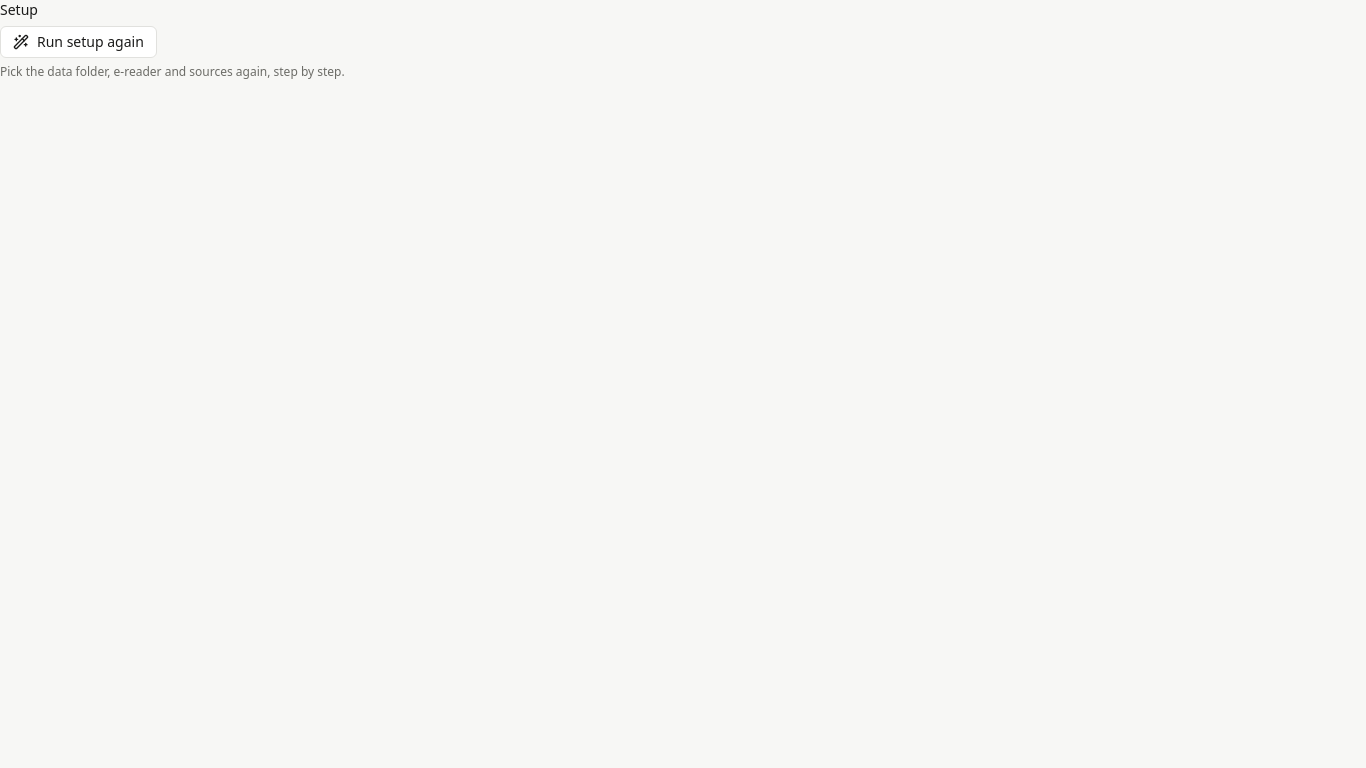
first-run setup › Esc on a sheet reopened from Settings closes it without saving or navigating
Click the button "Run setup again" at (78, 42), box top-left (0, 26), bottom-right (157, 58)
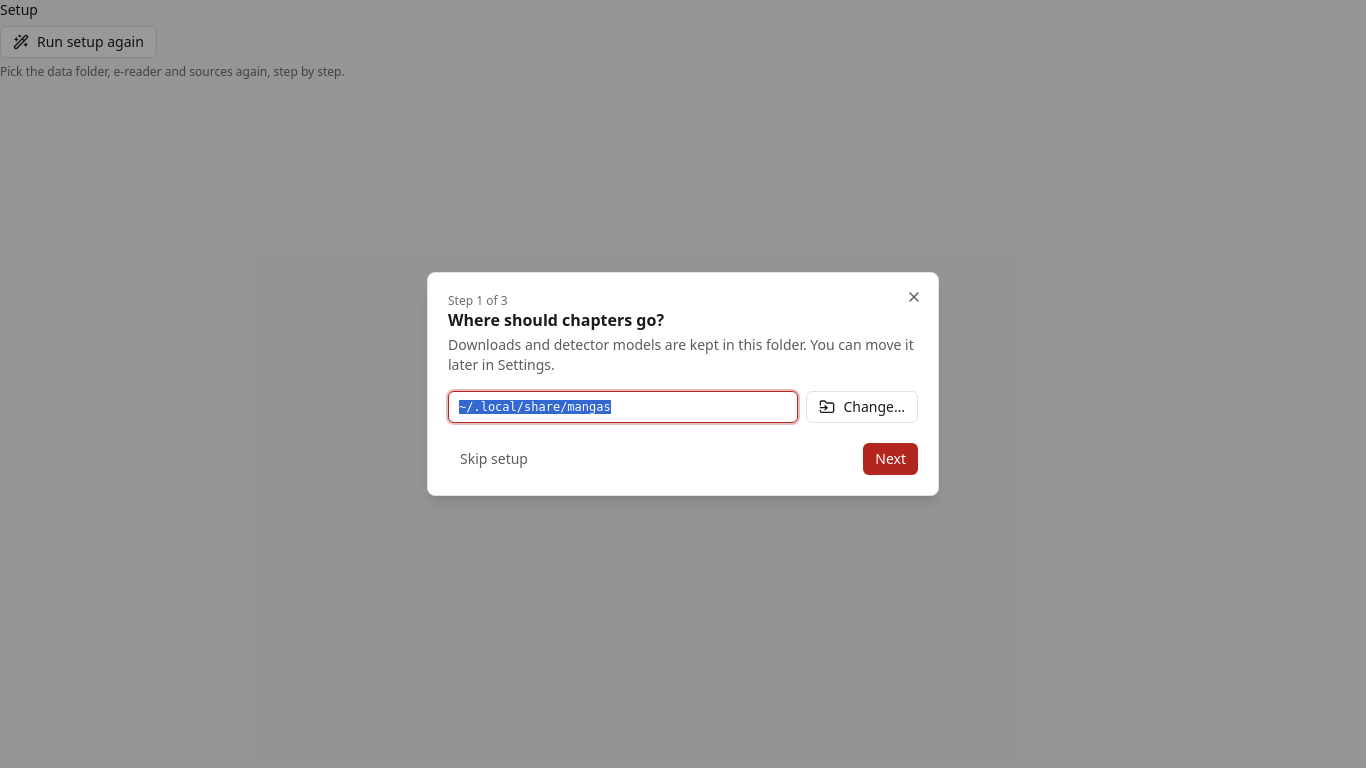
Click the button "Next" at (891, 459), box top-left (863, 443), bottom-right (918, 475)
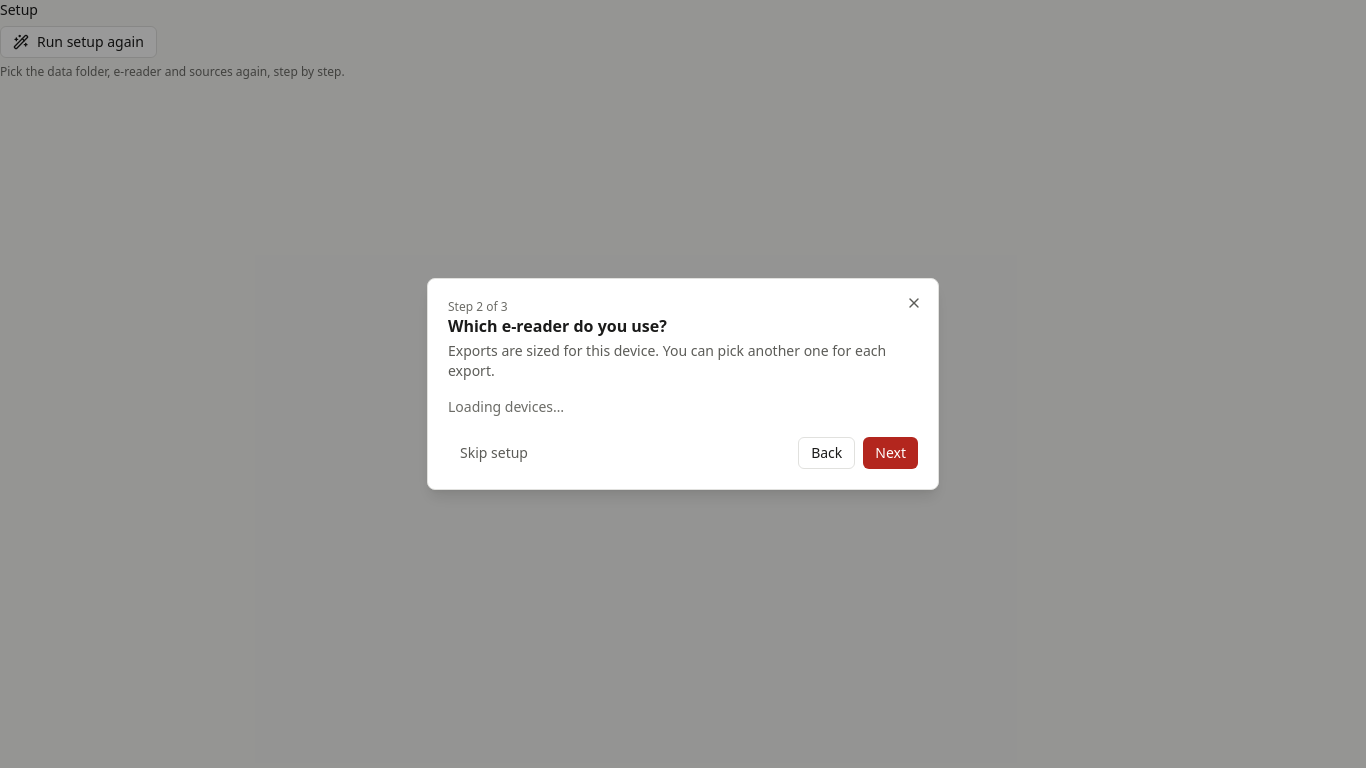
Press Escape in the dialog, box top-left (427, 278), bottom-right (939, 490)
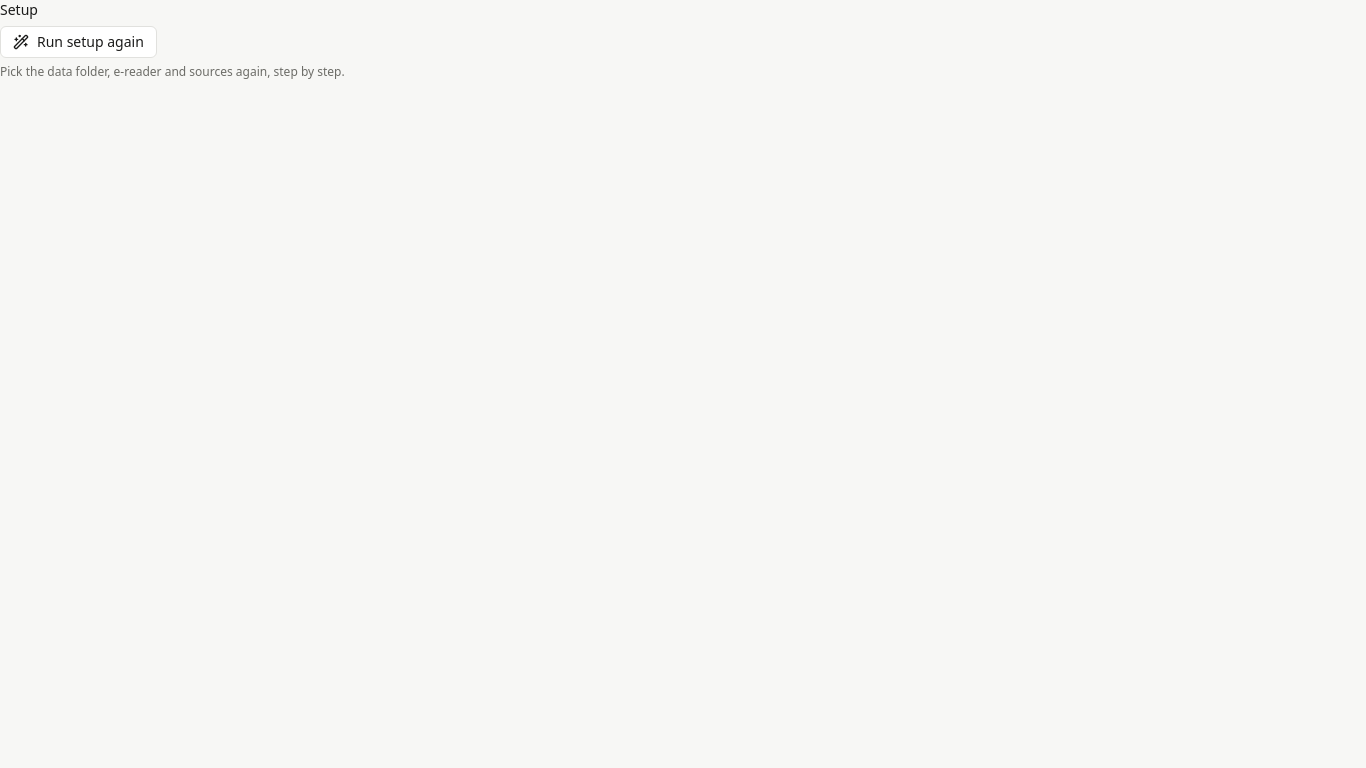
Expected: the dialog is gone
Click the button "Run setup again" at (78, 42), box top-left (0, 26), bottom-right (157, 58)
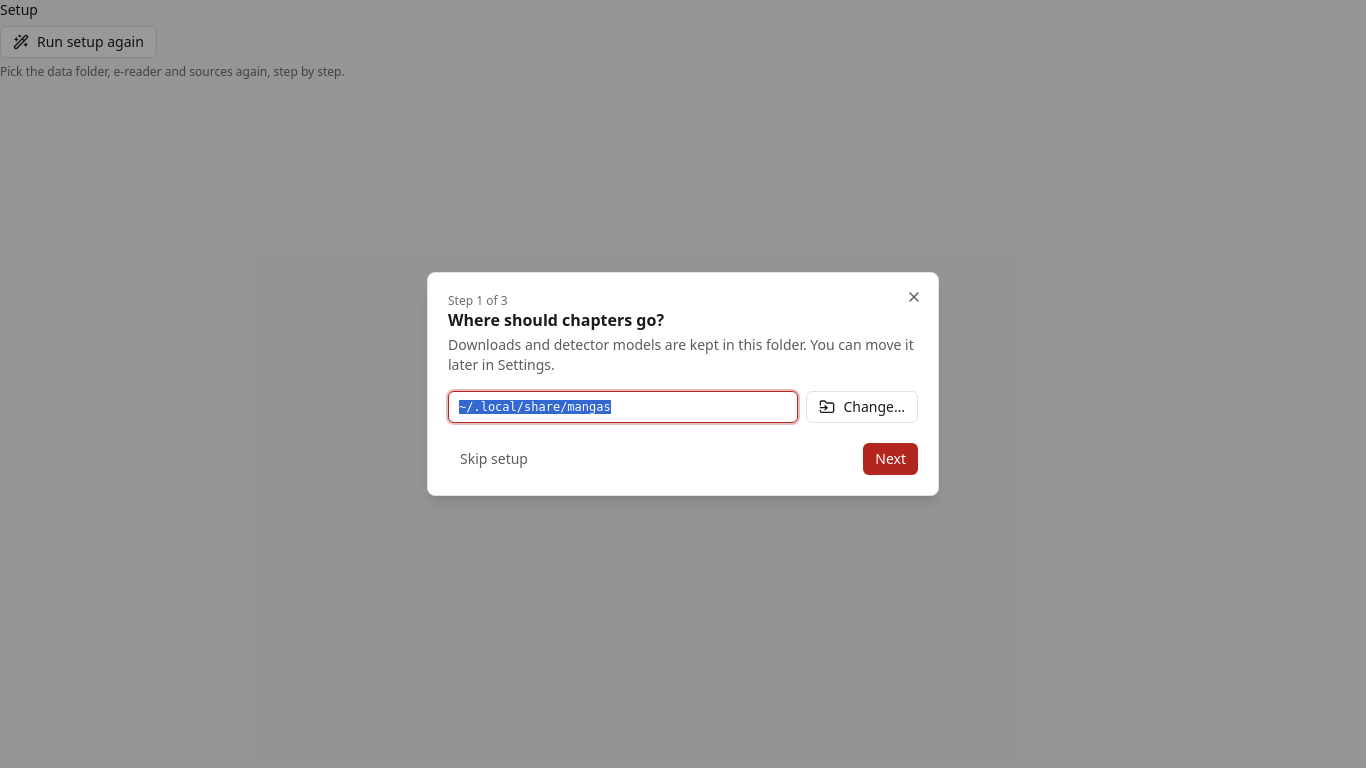
Expected: the text "Step 1 of 3" is shown, top-left (448, 292), bottom-right (508, 309)
